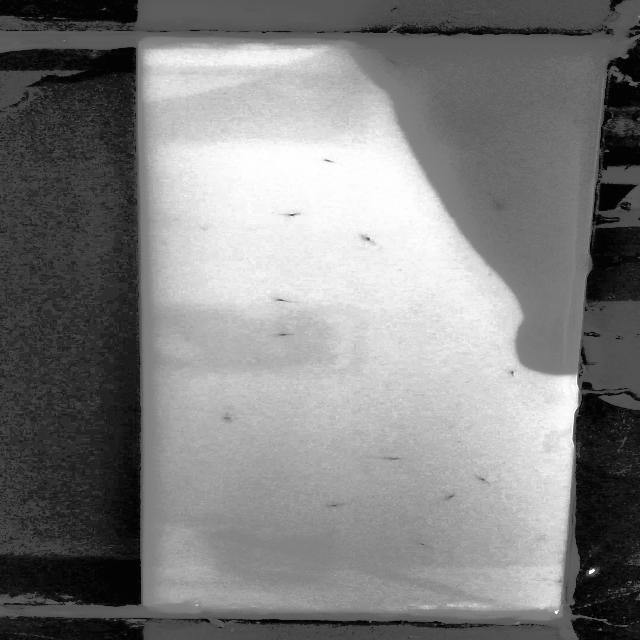shrimp: (468, 473, 499, 488), (484, 195, 507, 211), (217, 406, 238, 421), (412, 538, 438, 550), (319, 154, 341, 168), (356, 232, 380, 244), (375, 455, 404, 464), (377, 54, 403, 64), (444, 490, 460, 503), (275, 331, 301, 338), (326, 502, 348, 510), (506, 368, 520, 380), (272, 298, 297, 304), (286, 212, 303, 219)
